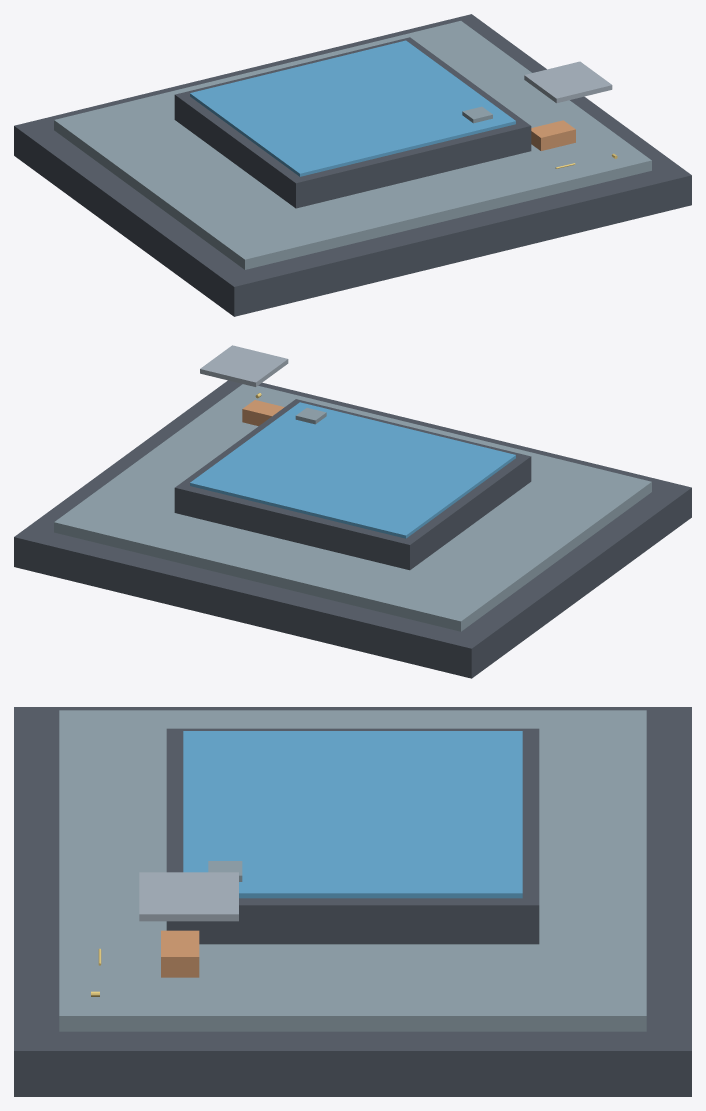
The model's file is 04-silicon-die.glb.
3 renders of one model, top to bottom at view 1: azimuth 30°, elevation 25°; view 2: azimuth 150°, elevation 25°; view 3: azimuth 270°, elevation 25°, orthographic. The views are drawn at different scales.
Parts seen in each view (by area): view 1: Silicon interposer, Organic package substrate, Die active silicon, GPU compute die, HBM stacked DRAM die, Cache bank; view 2: Silicon interposer, Organic package substrate, Die active silicon, GPU compute die, HBM stacked DRAM die, Cache bank; view 3: Silicon interposer, Organic package substrate, Die active silicon, GPU compute die, HBM stacked DRAM die, Cache bank.
Part boxes in pixels (x1,y1,x2,y2): Silicon interposer: [54, 21, 651, 269]; Organic package substrate: [14, 14, 691, 316]; Die active silicon: [190, 40, 515, 176]; GPU compute die: [174, 37, 531, 208]; HBM stacked DRAM die: [524, 61, 612, 103]; Cache bank: [531, 120, 575, 150]; Silicon interposer: [54, 384, 651, 631]; Organic package substrate: [14, 380, 691, 678]; Die active silicon: [190, 402, 515, 538]; GPU compute die: [174, 399, 531, 570]; HBM stacked DRAM die: [200, 345, 288, 386]; Cache bank: [242, 400, 284, 426]; Silicon interposer: [59, 710, 646, 1031]; Organic package substrate: [14, 707, 691, 1096]; Die active silicon: [183, 731, 522, 898]; GPU compute die: [166, 728, 539, 944]; HBM stacked DRAM die: [139, 872, 238, 921]; Cache bank: [161, 930, 199, 977].
Bounding box in the file's own units: 7.2 × 1.5 × 6.
